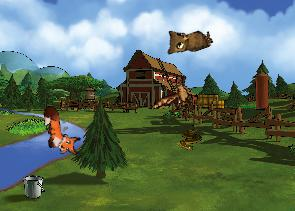eagle: (148, 67, 202, 125)
fox: (41, 103, 82, 158)
owl: (161, 18, 214, 59)
